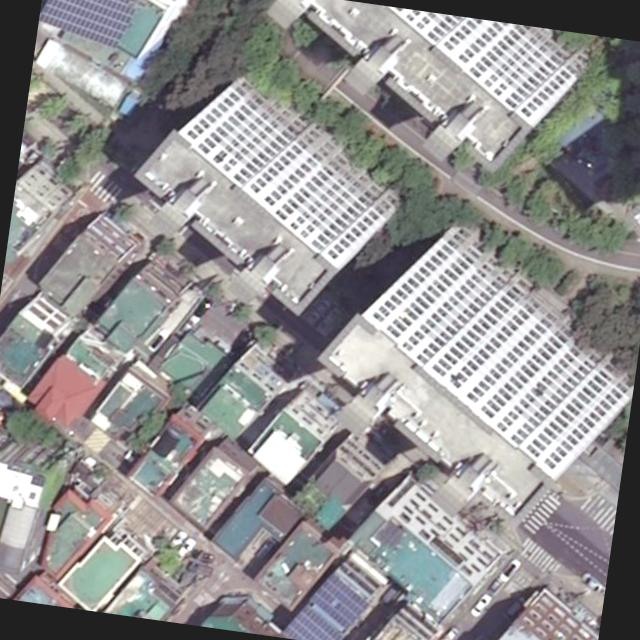solar: (37, 0, 143, 54), (305, 566, 378, 633), (281, 601, 352, 640)
